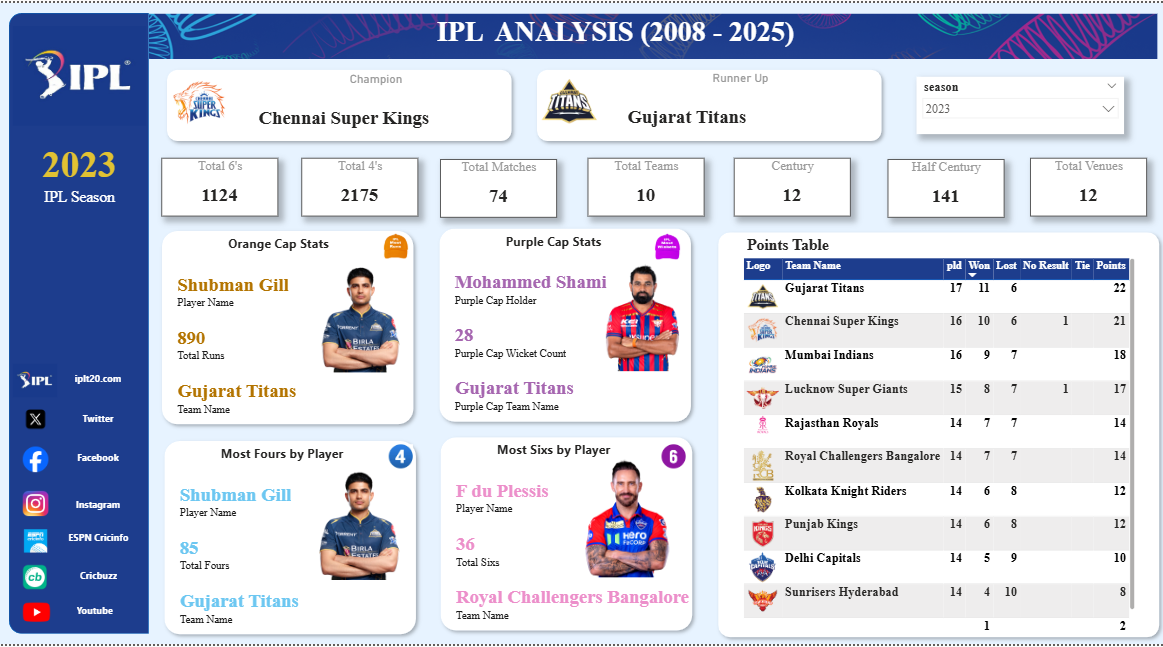

This screenshot's page, from the dashboard's own definition file:
{"tool":"powerbi","page":{"name":"IPl ANALYSIS (2008-2025)","canvas":[2000,1100],"ordinal":0},"visuals":[{"type":"shape","box":[18.2,18.2,239.8,1064.7],"z":0},{"type":"group","id":"g1","title":"Group 1","box":[744.9,373.7,454.2,354.3],"z":0,"group":"g6"},{"type":"group","id":"g2","title":"Group 1","box":[268.9,379.1,454.2,354.3],"z":0,"group":"g7"},{"type":"group","id":"g3","title":"Group 1","box":[1222.1,381.6,779.4,717.7],"z":0,"group":"g10"},{"type":"group","id":"g4","title":"Group 1","box":[746.7,733,454.2,354.3],"z":0,"group":"g8"},{"type":"group","id":"g5","title":"Group 1","box":[272.5,738.3,454.2,354.3],"z":0,"group":"g9"},{"type":"group","id":"g6","title":"Group 3","box":[744.9,373.7,500.5,359.9],"z":500,"group":"g13"},{"type":"group","id":"g7","title":"Group 3","box":[268.9,379.1,500.5,359.9],"z":500,"group":"g12"},{"type":"group","id":"g8","title":"Group 3","box":[746.7,733,499.6,359.7],"z":500,"group":"g15"},{"type":"group","id":"g9","title":"Group 3","box":[272.5,738.3,499.6,359.7],"z":500,"group":"g14"},{"type":"group","id":"g10","title":"Group 3","box":[1222.1,381.6,778.3,718.3],"z":1000},{"type":"cardVisual","fields":{"Data":["Measures Table.Purple Cap Holder","Measures Table.Purple Cap Wicket Count","Measures Table.Purple Cap Team Name"]},"box":[753,430.2,492.4,303.4],"z":1000,"group":"g6"},{"type":"cardVisual","fields":{"Data":["Measures Table.Orange Cap Holder","Measures Table.Orange Cap Runs","Measures Table.Orange Cap Team Name"]},"box":[277,435.6,492.4,303.4],"z":1000,"group":"g7"},{"type":"cardVisual","fields":{"Data":["Measures Table.Top Six Player Name","Measures Table.Top Six Count","Measures Table.Top Six Player Team Name"]},"box":[754.8,789.5,492.4,303.4],"z":1000,"group":"g8"},{"type":"cardVisual","fields":{"Data":["Measures Table.Top Four Player Name","Measures Table.Top Four Count","Measures Table.Top Four Player Team Name"]},"box":[280.6,794.8,492.4,303.4],"z":1000,"group":"g9"},{"type":"textbox","box":[864.8,386.4,238,45.4],"z":2000,"group":"g6"},{"type":"textbox","box":[388.8,391.8,238,45.4],"z":2000,"group":"g7"},{"type":"textbox","box":[1278.7,395.1,285.2,45],"z":2000,"group":"g10"},{"type":"tableEx","fields":{"Values":["teams_data.image_url","teams_data.team_name","Measures Table.Matches Played","Measures Table.Matches Win","Measures Table.Matches Lost","Measures Table.No Result Matches","Measures Table.Tie Matches","Measures Table.Total Points"]},"box":[1271.4,433.1,681.8,647.5],"z":2000},{"type":"textbox","box":[848.8,745.9,234.4,45.4],"z":2000,"group":"g8"},{"type":"textbox","box":[374.6,751.2,234.4,45.4],"z":2000,"group":"g9"},{"type":"image","box":[258,12.7,1729.7,89],"z":3000},{"type":"image","box":[639.5,393.6,83.6,45.4],"z":3000,"group":"g7"},{"type":"textbox","box":[746.7,18.2,724.9,83.6],"z":4000},{"type":"shape","box":[276.2,103.5,614.1,145.3],"z":4000,"group":"g11"},{"type":"shape","box":[744.9,373.7,454.2,354.3],"z":4000,"group":"g1"},{"type":"shape","box":[268.9,379.1,454.2,354.3],"z":4000,"group":"g2"},{"type":"shape","box":[1222.1,381.6,779.4,717.7],"z":4000,"group":"g3"},{"type":"shape","box":[746.7,733,454.2,354.3],"z":4000,"group":"g4"},{"type":"shape","box":[272.5,738.3,454.2,354.3],"z":4000,"group":"g5"},{"type":"cardVisual","title":"Champion ","fields":{"Data":["Measures Table.Season Winners"]},"box":[416.1,118.4,461.5,132.6],"z":5000,"group":"g11"},{"type":"slicer","fields":{"Values":["ipl_matches_data.season"]},"box":[1573.4,127.2,356.1,98.1],"z":5000},{"type":"cardVisual","fields":{"Data":["Measures Table.Season Winner Logo"]},"box":[276.2,1.8,134.4,236.2],"z":6000,"group":"g11"},{"type":"cardVisual","title":"Total 6''s","fields":{"Data":["Measures Table.Total 6's"]},"box":[278,265.3,199.9,99.9],"z":6000},{"type":"group","id":"g11","title":"Group 1","box":[276.2,1.8,614.1,248.9],"z":7000},{"type":"shape","box":[910.2,103.6,614.1,145.3],"z":7000,"group":"g16"},{"type":"cardVisual","fields":{"Data":["Measures Table.Purple Cap Holder Image"]},"box":[993.1,218,225.3,434.2],"z":7000,"group":"g13"},{"type":"cardVisual","fields":{"Data":["Measures Table.Orange Cap Image"]},"box":[508.2,219.8,225.3,434.2],"z":7000,"group":"g12"},{"type":"cardVisual","fields":{"Data":["Measures Table.Top Six Player Image"]},"box":[956.8,546.9,243.5,457.9],"z":7000,"group":"g15"},{"type":"cardVisual","fields":{"Data":["Measures Table.Top Four Player Image"]},"box":[491.1,578.4,254.4,428.8],"z":7000,"group":"g14"},{"type":"cardVisual","title":"Runner Up","fields":{"Data":["Measures Table.Runner Up"]},"box":[1047.8,116.3,446.9,132.6],"z":8000,"group":"g16"},{"type":"cardVisual","title":"Total 4''s","fields":{"Data":["Measures Table.Total 4's"]},"box":[517.8,265.3,199.9,99.9],"z":8000},{"type":"cardVisual","fields":{"Data":["Measures Table.Runner Up Team Logo"]},"box":[910.2,0,134.4,236.2],"z":9000,"group":"g16"},{"type":"cardVisual","title":"Total Matches","fields":{"Data":["Measures Table.Total Matches"]},"box":[757.6,267.1,199.9,99.9],"z":9000},{"type":"cardVisual","title":"Total Teams","fields":{"Data":["Measures Table.Total Teams"]},"box":[1010.2,265.3,199.9,99.9],"z":10000},{"type":"cardVisual","title":"Century","fields":{"Data":["Measures Table.Centuries"]},"box":[1260.9,265.3,199.9,99.9],"z":11000},{"type":"cardVisual","title":"Half Century","fields":{"Data":["Measures Table.Half Centuries"]},"box":[1524.4,267.1,199.9,99.9],"z":12000},{"type":"cardVisual","title":"Total Venues","fields":{"Data":["Measures Table.Total Venues"]},"box":[1767.8,265.3,199.9,99.9],"z":13000},{"type":"group","id":"g12","title":"Group 4","box":[268.9,219.8,499.6,519.6],"z":14000},{"type":"group","id":"g13","title":"Group 4","box":[744.9,218,499.6,516],"z":15000},{"type":"image","box":[1119.2,394.3,54.5,47.2],"z":16000},{"type":"group","id":"g14","title":"Group 4","box":[272.5,578.4,498.7,521],"z":17000},{"type":"group","id":"g15","title":"Group 4","box":[41.1,546.9,1205.3,545.8],"z":18000},{"type":"image","box":[659.5,757.6,58.1,41.8],"z":19000},{"type":"image","box":[1130.1,755.8,54.5,41.8],"z":20000},{"type":"image","box":[23.6,32.7,228.9,185.3],"z":21000},{"type":"cardVisual","fields":{"Data":["Measures Table.IPL Season"]},"box":[43.6,203.5,190.8,183.5],"z":22000},{"type":"actionButton","box":[119.9,625,99.9,40],"z":23000},{"type":"image","box":[23.6,586.8,76.3,119.9],"z":24000},{"type":"image","box":[16.4,688.6,90.8,50.9],"z":25000},{"type":"actionButton","box":[119.9,692.2,99.9,40],"z":26000},{"type":"image","box":[40,817.6,43.6,83.6],"z":27000},{"type":"image","box":[40,730.4,43.6,103.6],"z":28000},{"type":"actionButton","box":[119.9,759.4,99.9,40],"z":29000},{"type":"actionButton","box":[119.9,843,99.9,32.7],"z":30000},{"type":"group","id":"g16","title":"Group 2","box":[910.2,0,614.1,248.9],"z":31000},{"type":"image","box":[41.1,1001.1,47.2,87.2],"z":31005,"group":"g15"},{"type":"image","box":[12.7,903,99.9,40],"z":32000},{"type":"actionButton","box":[107.2,892.1,127.2,47.2],"z":33000},{"type":"image","box":[41.8,928.4,41.8,112.6],"z":34000},{"type":"actionButton","box":[107.2,959.3,127.2,47.2],"z":35000},{"type":"actionButton","box":[99.9,1017.4,127.2,47.2],"z":36000}]}

Visuals, with their boxes in screenshot pixels (x1, y1, x2, y2), scaled from the page's 2000x1100 canvas onto the 1163x647 screenshot:
shape: bbox(11, 11, 150, 637)
"Group 1" group: bbox(433, 220, 697, 428)
"Group 1" group: bbox(156, 223, 420, 431)
"Group 1" group: bbox(711, 224, 1162, 646)
"Group 1" group: bbox(434, 431, 698, 640)
"Group 1" group: bbox(158, 434, 423, 643)
"Group 3" group: bbox(433, 220, 724, 431)
"Group 3" group: bbox(156, 223, 447, 435)
"Group 3" group: bbox(434, 431, 725, 643)
"Group 3" group: bbox(158, 434, 449, 646)
"Group 3" group: bbox(711, 224, 1162, 646)
cardVisual - Measures Table.Purple Cap Holder x Measures Table.Purple Cap Wicket Count: bbox(438, 253, 724, 431)
cardVisual - Measures Table.Orange Cap Holder x Measures Table.Orange Cap Runs: bbox(161, 256, 447, 435)
cardVisual - Measures Table.Top Six Player Name x Measures Table.Top Six Count: bbox(439, 464, 725, 643)
cardVisual - Measures Table.Top Four Player Name x Measures Table.Top Four Count: bbox(163, 467, 449, 646)
textbox: bbox(503, 227, 641, 254)
textbox: bbox(226, 230, 364, 257)
textbox: bbox(744, 232, 909, 259)
tableEx - teams_data.image_url x teams_data.team_name: bbox(739, 255, 1136, 636)
textbox: bbox(494, 439, 630, 465)
textbox: bbox(218, 442, 354, 469)
image: bbox(150, 7, 1156, 60)
image: bbox(372, 232, 420, 258)
textbox: bbox(434, 11, 856, 60)
shape: bbox(161, 61, 518, 146)
shape: bbox(433, 220, 697, 428)
shape: bbox(156, 223, 420, 431)
shape: bbox(711, 224, 1162, 646)
shape: bbox(434, 431, 698, 640)
shape: bbox(158, 434, 423, 643)
"Champion " cardVisual: bbox(242, 70, 510, 148)
slicer - ipl_matches_data.season: bbox(915, 75, 1122, 133)
cardVisual - Measures Table.Season Winner Logo: bbox(161, 1, 239, 140)
"Total 6''s" cardVisual: bbox(162, 156, 278, 215)
"Group 1" group: bbox(161, 1, 518, 147)
shape: bbox(529, 61, 886, 146)
cardVisual - Measures Table.Purple Cap Holder Image: bbox(577, 128, 708, 384)
cardVisual - Measures Table.Orange Cap Image: bbox(296, 129, 427, 385)
cardVisual - Measures Table.Top Six Player Image: bbox(556, 322, 698, 591)
cardVisual - Measures Table.Top Four Player Image: bbox(286, 340, 434, 592)
"Runner Up" cardVisual: bbox(609, 68, 869, 146)
"Total 4''s" cardVisual: bbox(301, 156, 417, 215)
cardVisual - Measures Table.Runner Up Team Logo: bbox(529, 0, 607, 139)
"Total Matches" cardVisual: bbox(441, 157, 557, 216)
"Total Teams" cardVisual: bbox(587, 156, 704, 215)
"Century" cardVisual: bbox(733, 156, 849, 215)
"Half Century" cardVisual: bbox(886, 157, 1003, 216)
"Total Venues" cardVisual: bbox(1028, 156, 1144, 215)
"Group 4" group: bbox(156, 129, 447, 435)
"Group 4" group: bbox(433, 128, 724, 432)
image: bbox(651, 232, 683, 260)
"Group 4" group: bbox(158, 340, 448, 646)
"Group 4" group: bbox(24, 322, 725, 643)
image: bbox(383, 446, 417, 470)
image: bbox(657, 445, 689, 469)
image: bbox(14, 19, 147, 128)
cardVisual - Measures Table.IPL Season: bbox(25, 120, 136, 228)
actionButton: bbox(70, 368, 128, 391)
image: bbox(14, 345, 58, 416)
image: bbox(10, 405, 62, 435)
actionButton: bbox(70, 407, 128, 431)
image: bbox(23, 481, 49, 530)
image: bbox(23, 430, 49, 491)
actionButton: bbox(70, 447, 128, 470)
actionButton: bbox(70, 496, 128, 515)
"Group 2" group: bbox(529, 0, 886, 146)
image: bbox(24, 589, 51, 640)
image: bbox(7, 531, 65, 555)
actionButton: bbox(62, 525, 136, 552)
image: bbox(24, 546, 49, 612)
actionButton: bbox(62, 564, 136, 592)
actionButton: bbox(58, 598, 132, 626)
